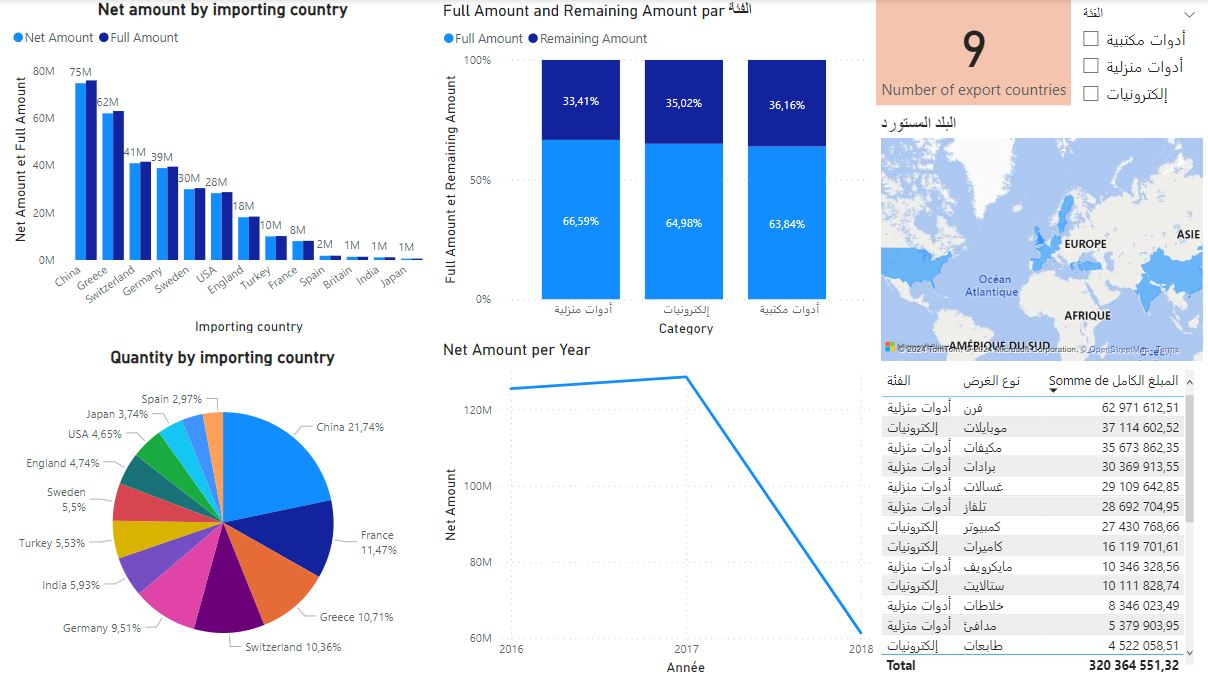

What the dashboard file says about the page in this screenshot:
{"tool":"powerbi","page":{"name":"Page 1","canvas":[1280,720],"ordinal":0},"visuals":[{"type":"clusteredColumnChart","title":"Net amount by importing country","fields":{"Category":["Table1.البلد المستورد","Table1.الفئة"],"Y":["Sum(Table1.المبلغ الصافي)","Sum(Table1.المبلغ الكامل)"]},"box":[7.9,0,456.2,359.2],"z":0},{"type":"pieChart","title":"Quantity by importing country","fields":{"Category":["Table1.البلد المستورد"],"Y":["Sum(Table1.الكمية)"]},"box":[7.9,368.7,456.2,351.3],"z":1000},{"type":"lineChart","title":"Net Amount per Year","fields":{"Category":["Table1.تاريخ الاستيراد.Variation.Hiérarchie de dates.Année","Table1.تاريخ الاستيراد.Variation.Hiérarchie de dates.Trimestre","Table1.تاريخ الاستيراد.Variation.Hiérarchie de dates.Mois","Table1.تاريخ الاستيراد.Variation.Hiérarchie de dates.Jour"],"Y":["Sum(Table1.المبلغ الصافي)"]},"box":[464.1,360.8,465.7,359.2],"z":2000},{"type":"hundredPercentStackedColumnChart","title":"Full Amount and Remaining Amount par الفئة","fields":{"Y":["Sum(Table1.المبلغ الكامل)","Sum(Table1.المبلغ المبتقي)"],"Category":["Table1.الفئة"]},"box":[464.1,1.6,464.1,359.2],"z":3000},{"type":"tableEx","fields":{"Values":["Table1.الفئة","Table1.نوع الغرض","Sum(Table1.المبلغ الكامل)"]},"box":[928.2,387.8,341.7,332.2],"z":4000},{"type":"card","fields":{"Values":["Count(Table1.وجهة التصدير)"]},"box":[928.2,0,206.6,112.8],"z":5000},{"type":"slicer","fields":{"Values":["Table1.الفئة"]},"box":[1134.8,1.6,144.6,120.8],"z":6000},{"type":"filledMap","fields":{"Category":["Table1.البلد المستورد"]},"box":[928.2,122.4,351.3,265.4],"z":7000}]}

Visuals, with their boxes in screenshot pixels (x1, y1, x2, y2), scaled from the page's 1280x720 canvas onto the 1208x678 screenshot:
"Net amount by importing country" clusteredColumnChart: <box>7,0,438,338</box>
"Quantity by importing country" pieChart: <box>7,347,438,677</box>
"Net Amount per Year" lineChart: <box>438,340,877,677</box>
"Full Amount and Remaining Amount par الفئة" hundredPercentStackedColumnChart: <box>438,2,876,340</box>
tableEx - Table1.الفئة x Table1.نوع الغرض: <box>876,365,1198,677</box>
card - Count(Table1.وجهة التصدير): <box>876,0,1071,106</box>
slicer - Table1.الفئة: <box>1071,2,1207,115</box>
filledMap - Table1.البلد المستورد: <box>876,115,1207,365</box>
